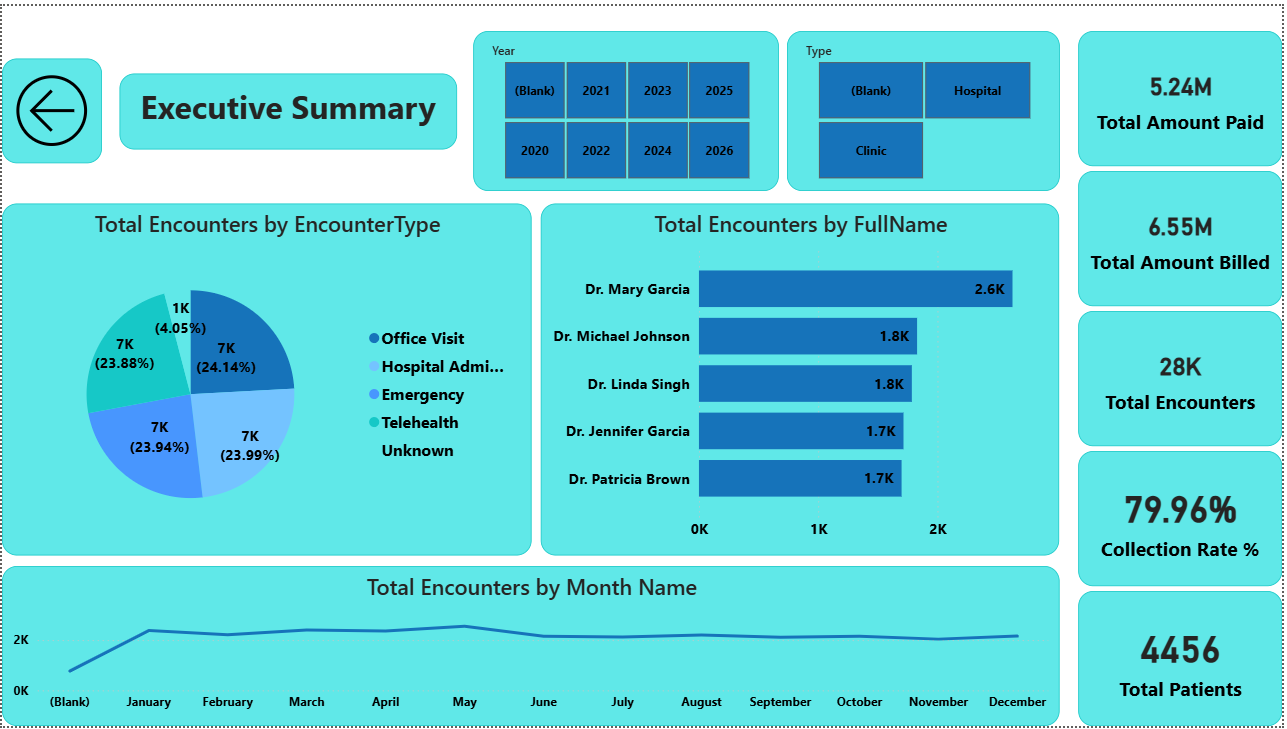

Layout of this report page (visuals, bound fields, positions):
{"tool":"powerbi","page":{"name":"Executive Summary","canvas":[1280,720],"ordinal":1},"visuals":[{"type":"card","fields":{"Values":["_All Measures.Total Patients"]},"box":[1076.4,585.5,204,135],"z":0},{"type":"card","fields":{"Values":["_All Measures.Total Amount Billed"]},"box":[1076.4,165.2,203.6,135],"z":1000},{"type":"card","fields":{"Values":["_All Measures.Total Amount Paid"]},"box":[1076.4,25.1,204,135],"z":2000},{"type":"card","fields":{"Values":["_All Measures.Total Encounters"]},"box":[1076.4,305.3,203.6,135],"z":3000},{"type":"card","fields":{"Values":["_All Measures.Collection Rate %"]},"box":[1076.4,445.4,203.6,135],"z":4000},{"type":"lineChart","fields":{"Y":["_All Measures.Total Encounters"],"Category":["Date Table.Month Name"]},"box":[0,559.8,1057.8,160.2],"z":5000},{"type":"pieChart","fields":{"Category":["Encounters Log.EncounterType"],"Y":["_All Measures.Total Encounters"]},"box":[0,196.9,529.5,352.2],"z":6000},{"type":"clusteredBarChart","fields":{"Category":["Providers Master.FullName"],"Y":["_All Measures.Total Encounters"]},"box":[539.3,196.9,518.5,352.2],"z":7000},{"type":"slicer","fields":{"Values":["Date Table.Year"]},"box":[470.8,24.5,305.7,160.2],"z":8000},{"type":"slicer","fields":{"Values":["Facilities Master.type"]},"box":[785.1,24.5,272.7,160.2],"z":9000},{"type":"textbox","box":[117.4,67.3,337.5,75.8],"z":10000},{"type":"actionButton","box":[0,52.6,100.3,105.2],"z":11000}]}

Visuals, with their boxes in screenshot pixels (x1, y1, x2, y2), scaled from the page's 1280x720 canvas onto the 1287x729 screenshot:
card - _All Measures.Total Patients: Rect(1082, 593, 1286, 728)
card - _All Measures.Total Amount Billed: Rect(1082, 167, 1286, 304)
card - _All Measures.Total Amount Paid: Rect(1082, 25, 1286, 162)
card - _All Measures.Total Encounters: Rect(1082, 309, 1286, 446)
card - _All Measures.Collection Rate %: Rect(1082, 451, 1286, 588)
lineChart - _All Measures.Total Encounters x Date Table.Month Name: Rect(0, 567, 1064, 728)
pieChart - Encounters Log.EncounterType x _All Measures.Total Encounters: Rect(0, 199, 532, 556)
clusteredBarChart - Providers Master.FullName x _All Measures.Total Encounters: Rect(542, 199, 1064, 556)
slicer - Date Table.Year: Rect(473, 25, 781, 187)
slicer - Facilities Master.type: Rect(789, 25, 1064, 187)
textbox: Rect(118, 68, 457, 145)
actionButton: Rect(0, 53, 101, 160)
